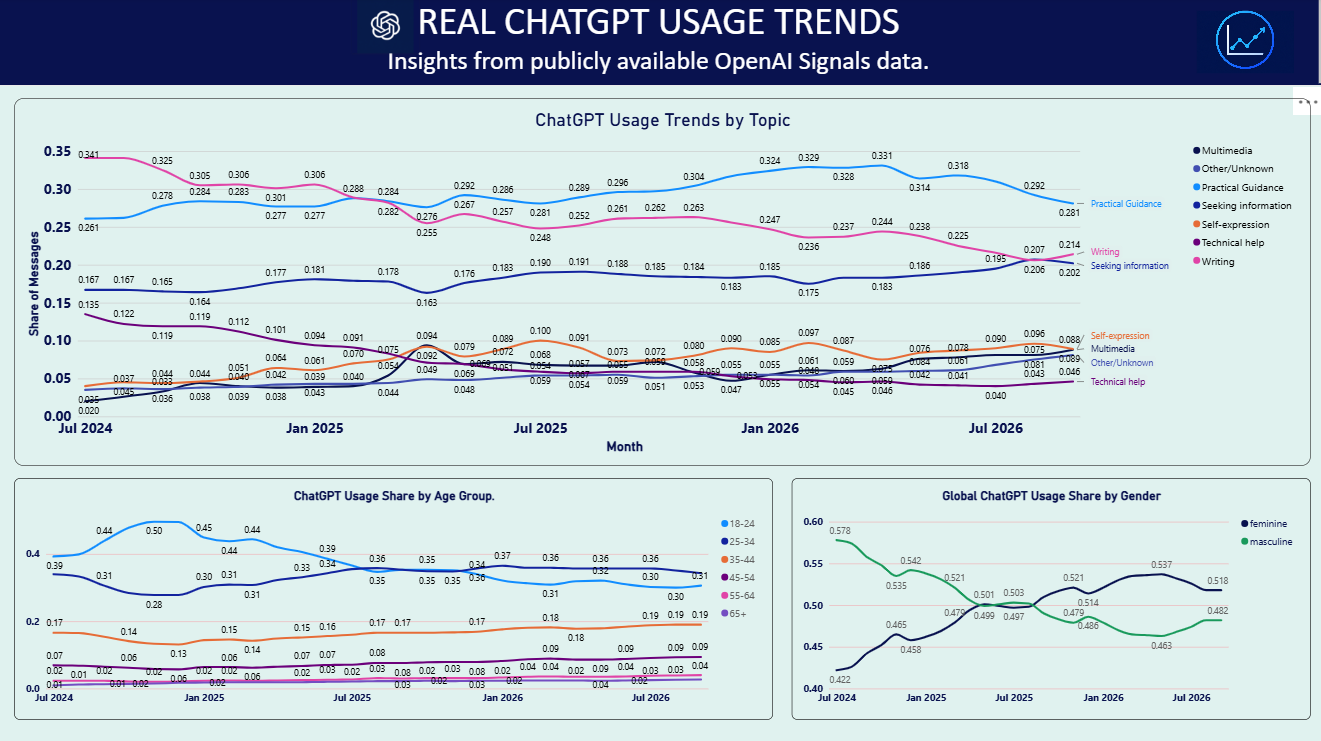

The page's visual inventory and layout, read from the dashboard file:
{"tool":"powerbi","page":{"name":"Real ChatGPT Usage Trends","canvas":[1920,1080],"ordinal":3},"visuals":[{"type":"textbox","box":[0,0,1920.1,128.5],"z":0},{"type":"lineChart","title":"ChatGPT Usage Trends by Topic","fields":{"Category":["share_of_messages_by_topic_month.month"],"Series":["share_of_messages_by_topic_month.topic"],"Y":["Sum(share_of_messages_by_topic_month.share_of_messages)"]},"box":[23.5,146.6,1876.6,532],"z":1000},{"type":"lineChart","title":"ChatGPT Usage Share by Age Group.","fields":{"Category":["share_of_messages_by_age_group_month.month"],"Series":["share_of_messages_by_age_group_month.age_group"],"Y":["Sum(share_of_messages_by_age_group_month.share_of_messages)"]},"box":[23.5,696.7,1098.5,349.3],"z":2000},{"type":"lineChart","title":"Global ChatGPT Usage Share by Gender","fields":{"Category":["global_share_of_messages_by_gender_month.month"],"Series":["global_share_of_messages_by_gender_month.typical_name_gender"],"Y":["Sum(global_share_of_messages_by_gender_month.share_of_messages)"]},"box":[1149.1,696.7,751,349.3],"z":3000},{"type":"image","box":[1735.5,19.9,141.2,90.5],"z":4000},{"type":"image","box":[512.1,0,97.7,81.4],"z":5000}]}

Visuals, with their boxes in screenshot pixels (x1, y1, x2, y2), scaled from the page's 1920x1080 canvas onto the 1321x741 screenshot:
textbox: 0 0 1320 88
"ChatGPT Usage Trends by Topic" lineChart: 16 101 1307 466
"ChatGPT Usage Share by Age Group." lineChart: 16 478 772 718
"Global ChatGPT Usage Share by Gender" lineChart: 791 478 1307 718
image: 1194 14 1291 76
image: 352 0 420 56
